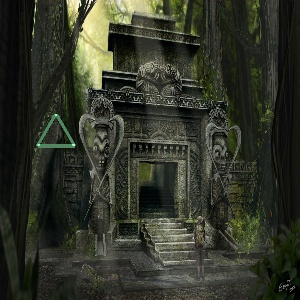triangle: (32, 111, 79, 150)
